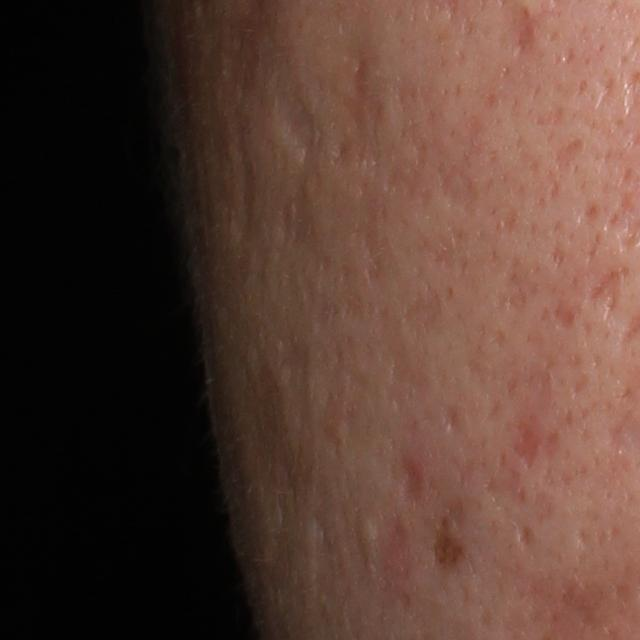atrophic_scar: (261, 44, 324, 162), (331, 53, 388, 173), (270, 338, 323, 440), (234, 108, 264, 243), (495, 247, 540, 315), (583, 259, 626, 321), (396, 289, 448, 338), (443, 152, 481, 216), (510, 417, 548, 474), (551, 132, 586, 172), (576, 197, 604, 231), (515, 519, 539, 553), (549, 302, 576, 330), (575, 516, 593, 555), (547, 238, 566, 267)
comedo: (353, 512, 376, 558)
melasma: (429, 515, 471, 574)
